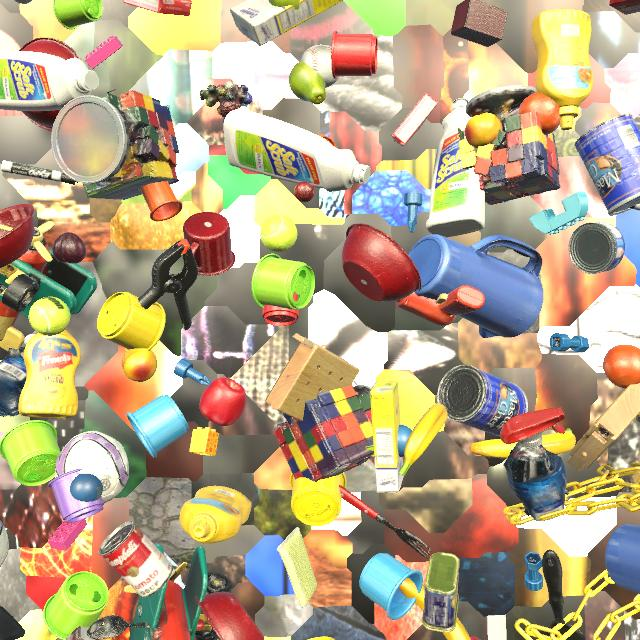ycb_002_master_chef_can: (575, 114, 640, 216), (437, 364, 528, 436)
ycb_003_cracker_box: (609, 0, 640, 15)
ycb_004_sugar_box: (230, 0, 343, 46), (370, 381, 404, 493)
ycb_005_tomato_soup_can: (99, 521, 173, 598)
ycb_006_mustard_bottle: (532, 9, 593, 130), (18, 328, 81, 419), (179, 486, 252, 544), (637, 413, 640, 416)
ycb_007_tuna_fish_can: (568, 222, 625, 274)
ycb_008_pudding_box: (56, 626, 96, 640)
ycb_009_gelatin_box: (392, 93, 438, 146), (123, 0, 192, 16)
ycb_010_potted_meat_can: (422, 553, 460, 633)
ycb_011_banana: (398, 578, 471, 640), (399, 403, 448, 475), (470, 428, 576, 459)
ycb_013_apple: (199, 377, 246, 426), (470, 636, 480, 640)
ycb_015_peach: (465, 113, 503, 149), (122, 348, 157, 382)
ycb_016_pear: (289, 61, 326, 105), (269, 0, 300, 10)
ycb_017_orange: (519, 92, 561, 135), (603, 344, 640, 389)
ycb_018_plum: (52, 232, 86, 264)
